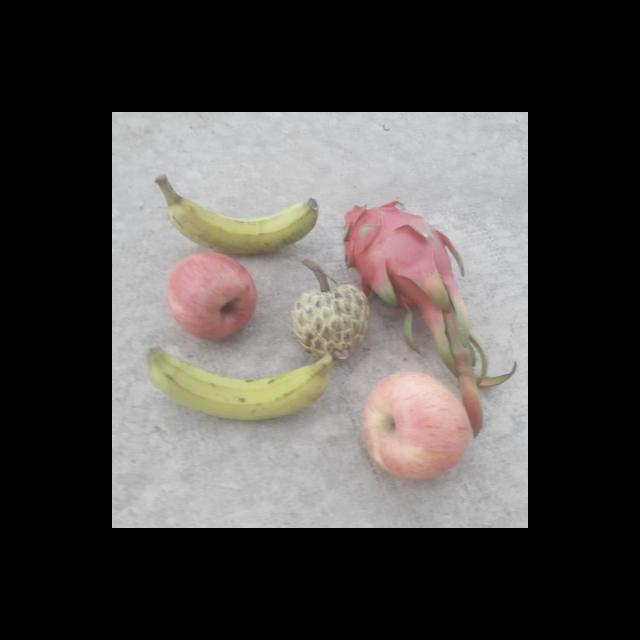Sakya fruit: (286, 275, 372, 369)
apple: (358, 371, 472, 487), (162, 251, 258, 346)
banana: (135, 347, 352, 422), (153, 172, 329, 259)
pitaya: (340, 195, 460, 315)
